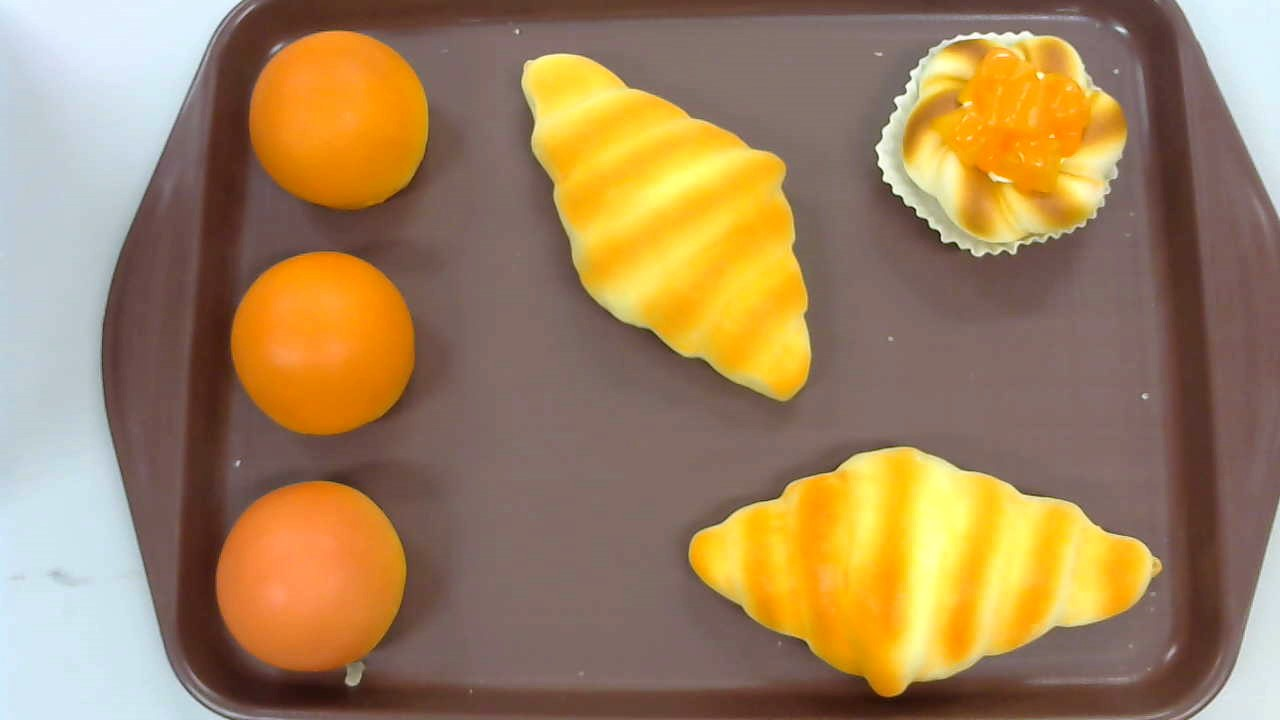bun: (215, 478, 406, 672), (231, 250, 415, 436), (248, 29, 429, 209)
croissant: (689, 445, 1163, 697), (521, 53, 812, 404)
mango tart: (876, 28, 1129, 259)
